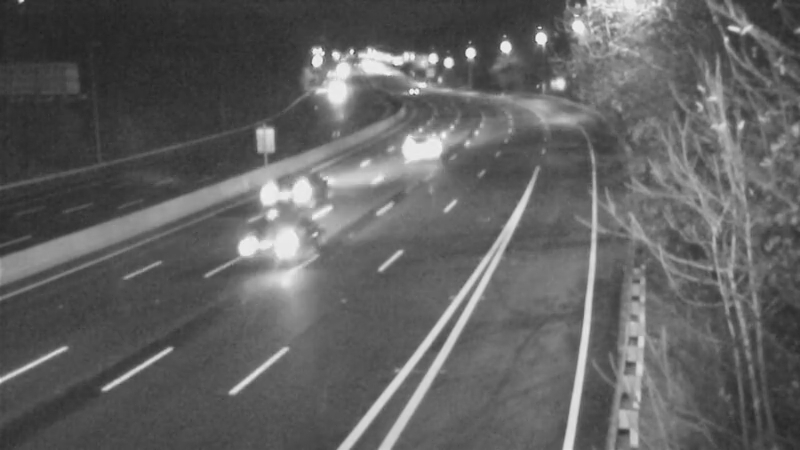vehicle: (251, 149, 331, 229), (217, 199, 297, 279), (392, 67, 442, 117), (402, 114, 452, 164), (308, 66, 358, 116)
